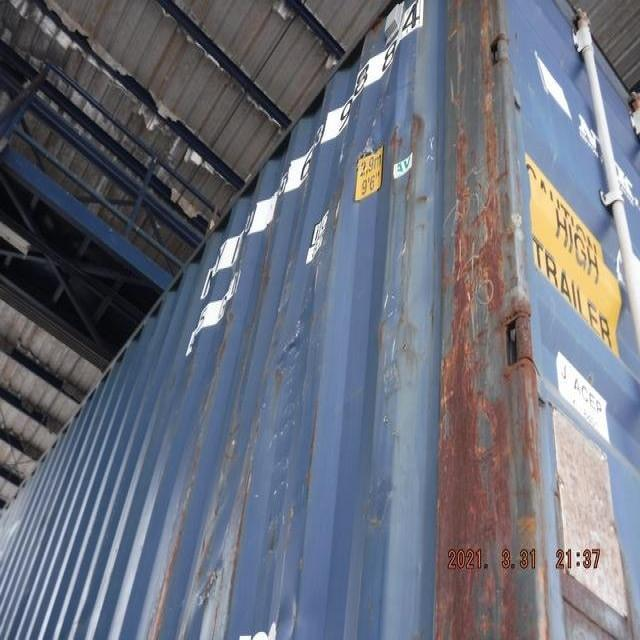Minor-Dent: (259, 40, 417, 420), (175, 453, 253, 627)
